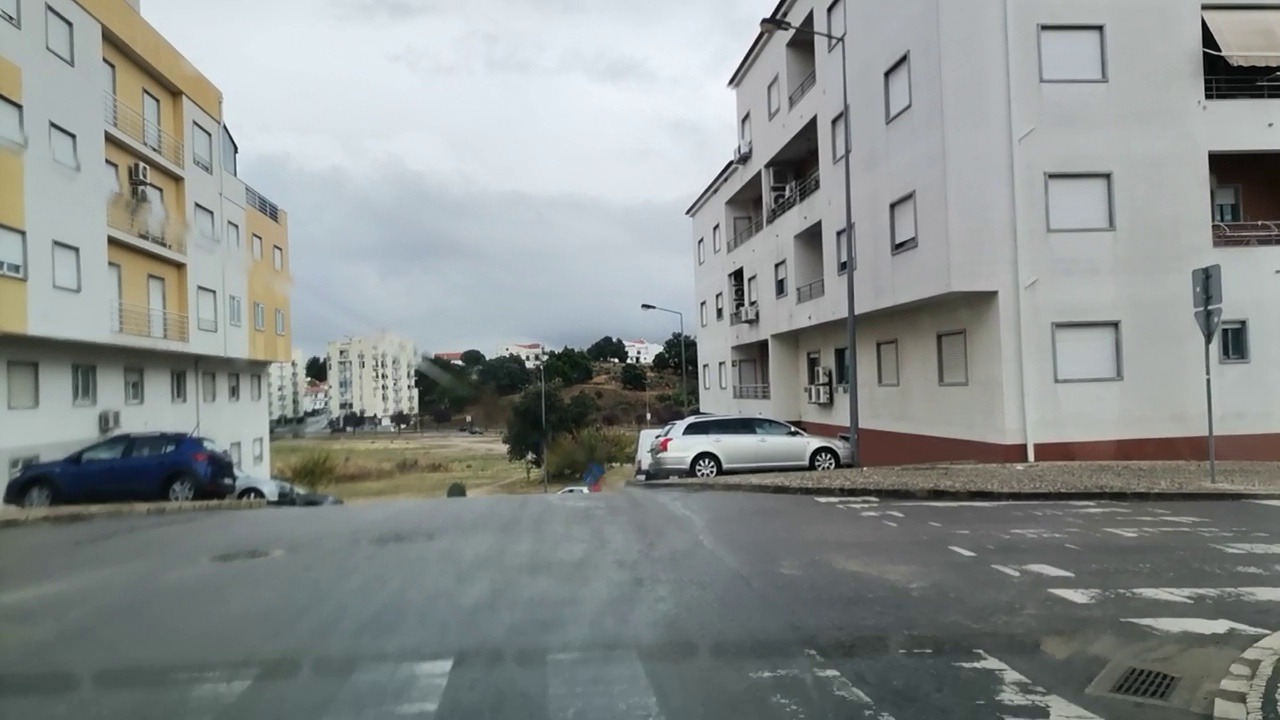Stairs: (814, 495, 1280, 633)
